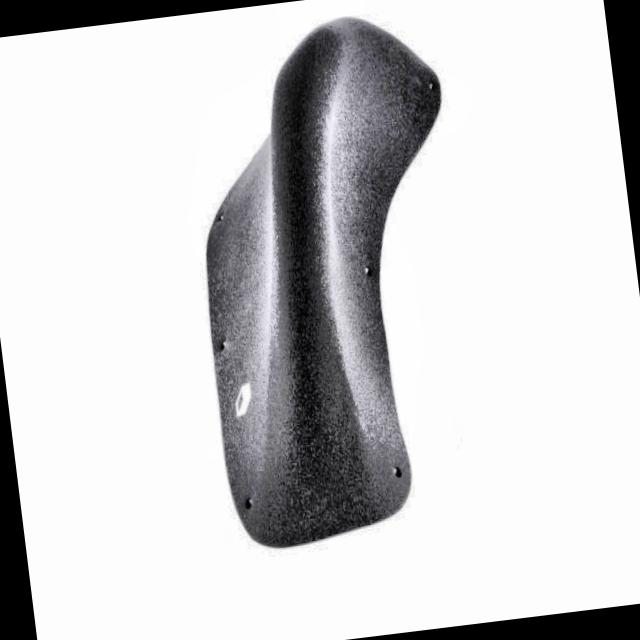Hold: (164, 8, 500, 555)
